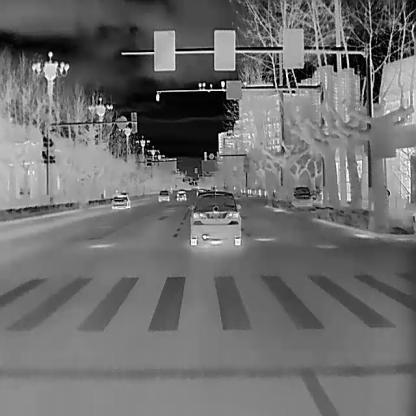car: (190, 190, 241, 246), (291, 184, 312, 207), (110, 192, 130, 208), (158, 189, 169, 201), (176, 190, 187, 200), (195, 188, 204, 196)
